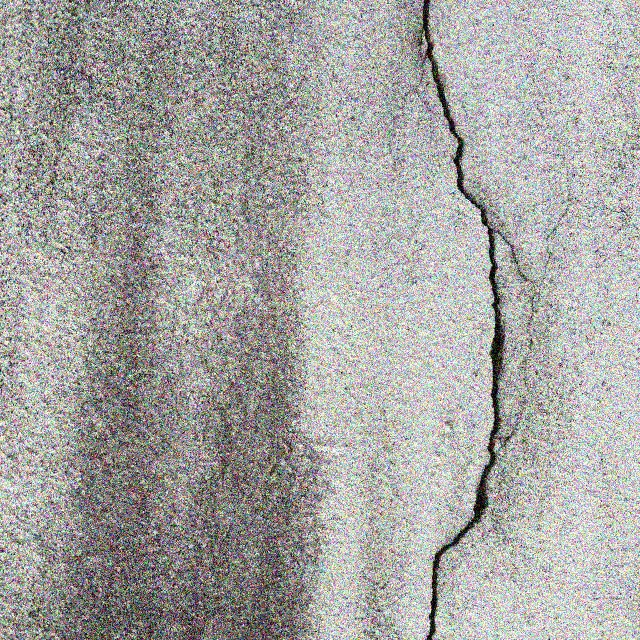SurfaceCrack: (372, 0, 543, 640)
